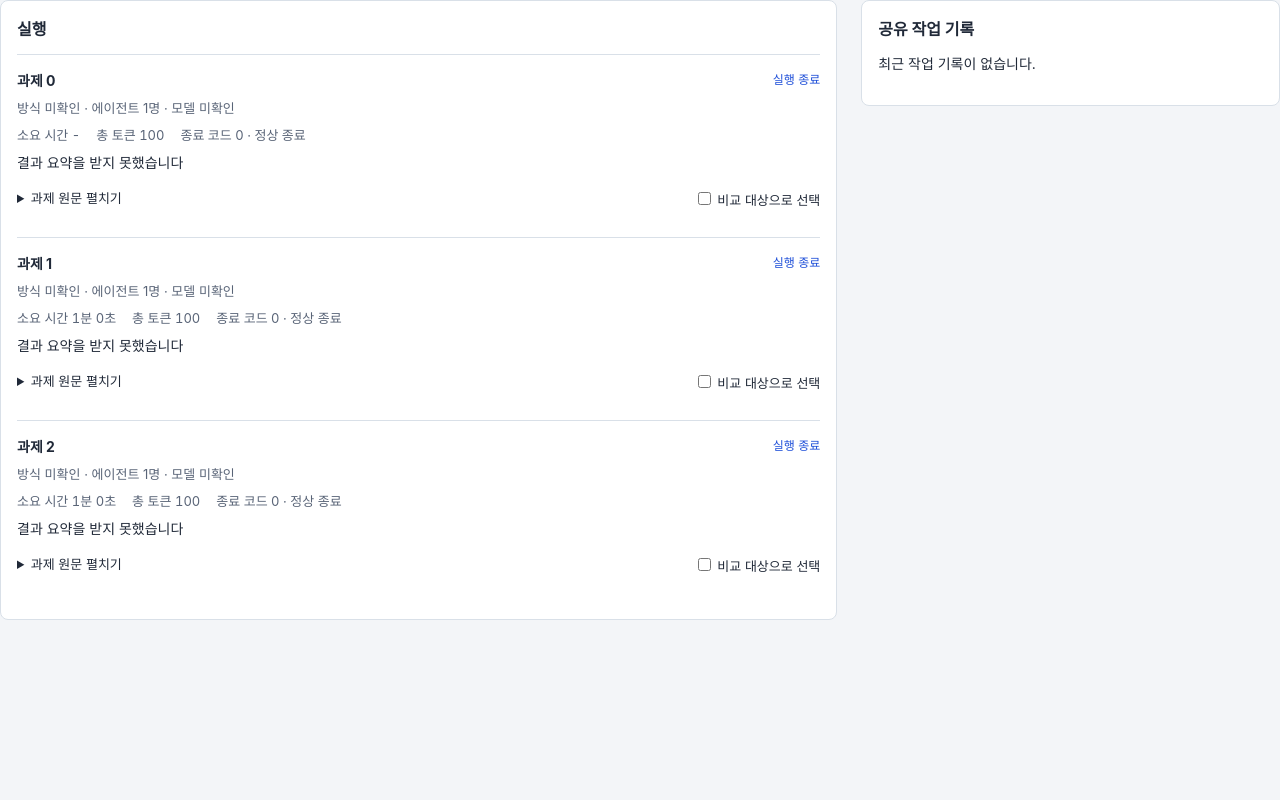
it: 실행 카드 › 결과와 종료를 구별하고 원문을 접고 두 실행만 비교한다
The width and height of the screenshot is (1280, 800).
Expected: the text "결과 요약을 받지 못했습니다" is shown 3 times, [17,154,183,171]; [17,337,183,354]; [17,520,183,537]
Click the 1st checkbox labelled "비교 대상으로 선택" at (704, 199), box [698,192,711,205]
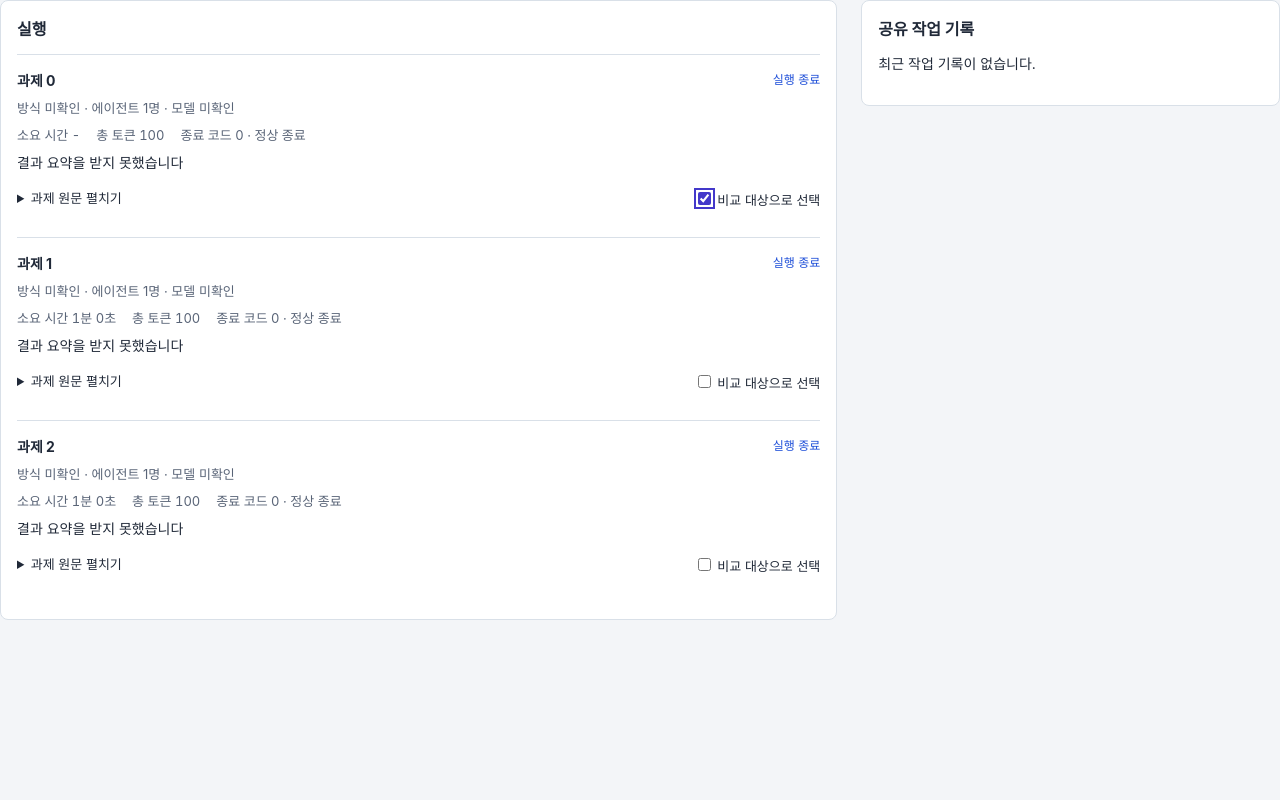
Click the 2nd checkbox labelled "비교 대상으로 선택" at (704, 382), box [698,375,711,388]
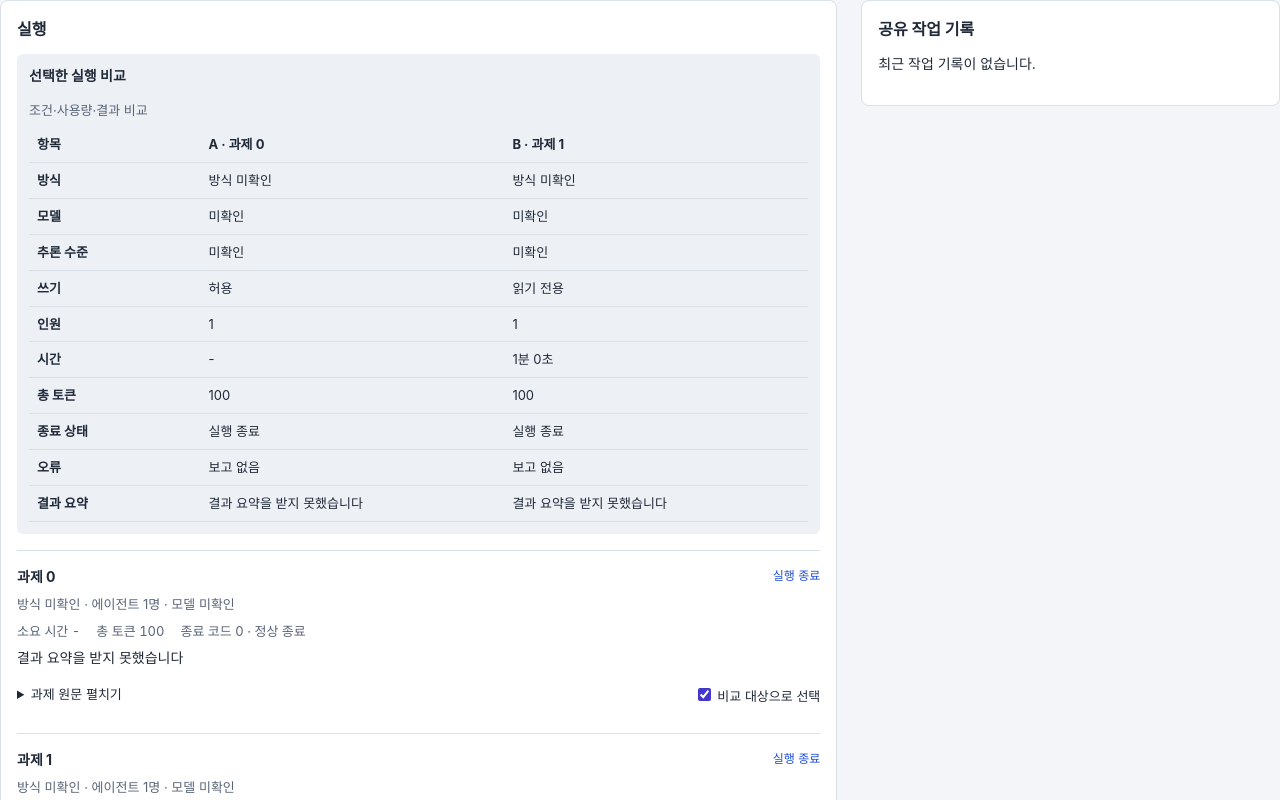
Expected: the row "시간 - 1분 0초" is shown, [29,342,808,378]
